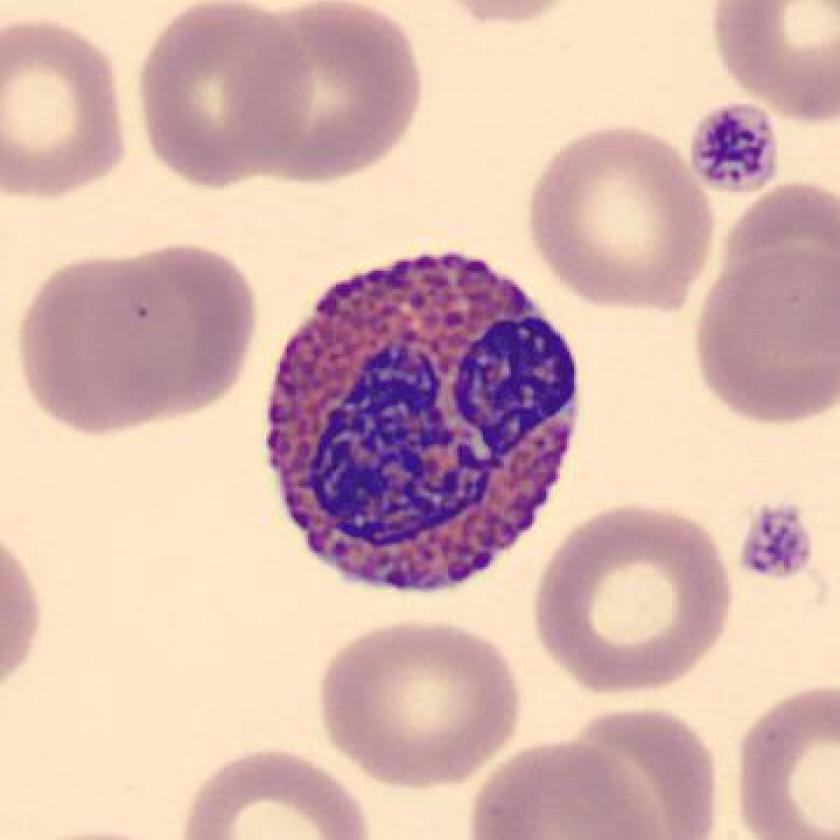eosinophil: (258, 242, 591, 598)
